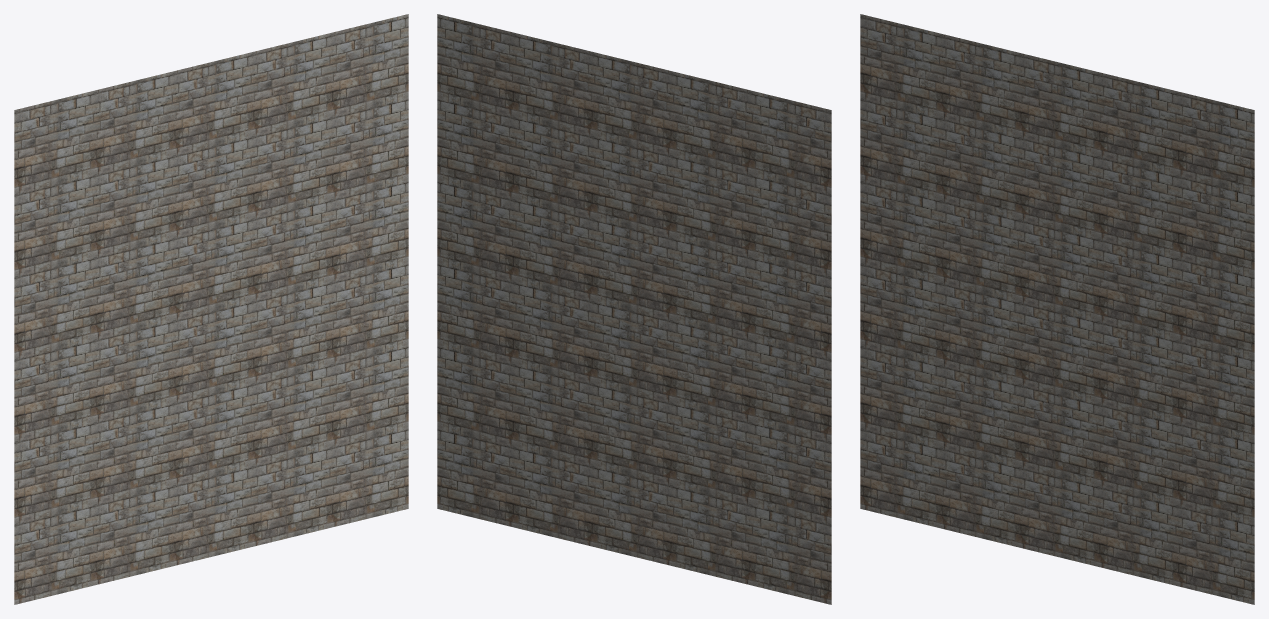
File: WallSolo.fbx
3 views of the same model, side by side, from view 1: azimuth 30°, elevation 25°; view 2: azimuth 150°, elevation 25°; view 3: azimuth 330°, elevation 25° (orthographic).
Visible parts, largest first — view 1: Wall_Solo; view 2: Wall_Solo; view 3: Wall_Solo.
Boxes of the visible parts, box(x1,y1,x2,y2) form: Wall_Solo: box(14, 14, 408, 604); Wall_Solo: box(437, 14, 831, 604); Wall_Solo: box(860, 14, 1254, 604).
Size of the model in its own units: 750 by 900 by 3.05e-05.
